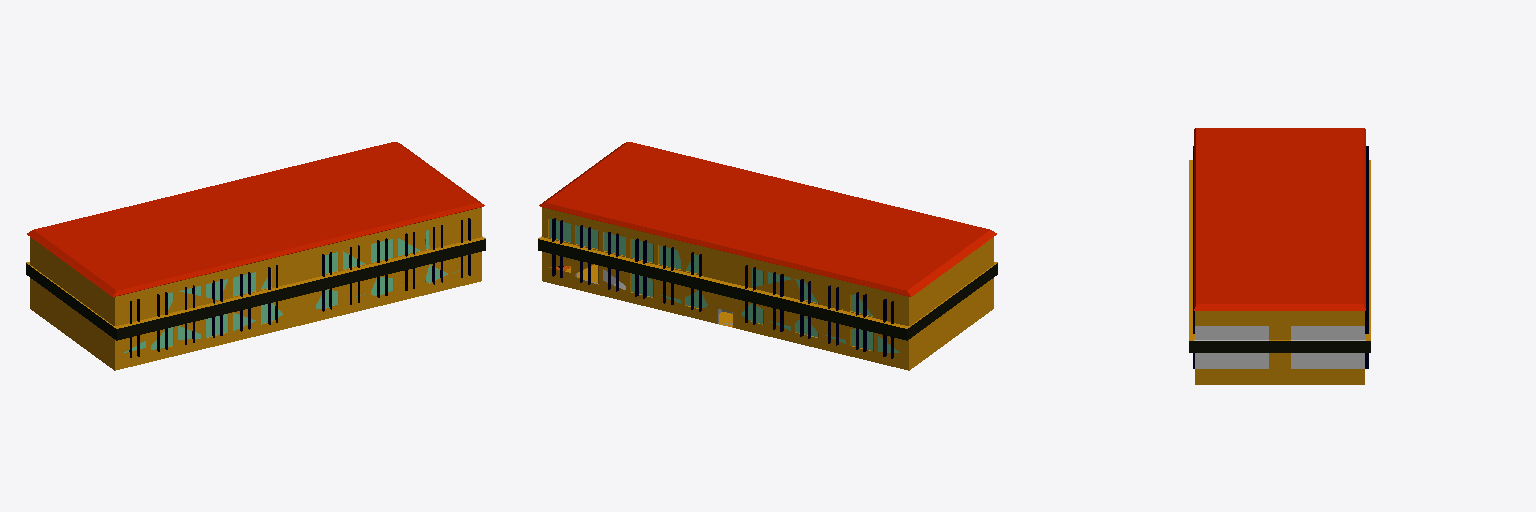
3 views of the same model, side by side, from view 1: azimuth 30°, elevation 25°; view 2: azimuth 150°, elevation 25°; view 3: azimuth 270°, elevation 25° (orthographic).
Visible parts, largest first — view 1: Cube; view 2: Cube; view 3: Cube.
Part boxes in pixels (bbox=[...]): Cube: bbox=[26, 142, 485, 370]; Cube: bbox=[538, 142, 997, 370]; Cube: bbox=[1189, 128, 1370, 384].
Size of the model in its own units: 50.81 by 10.36 by 21.46.